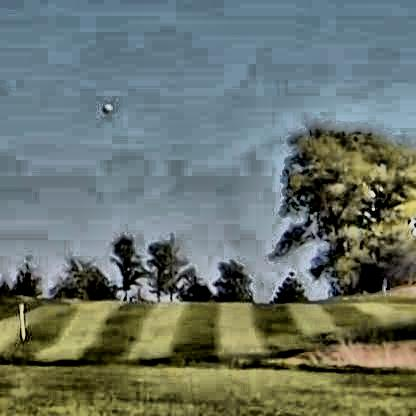golfball: (99, 99, 110, 111)
